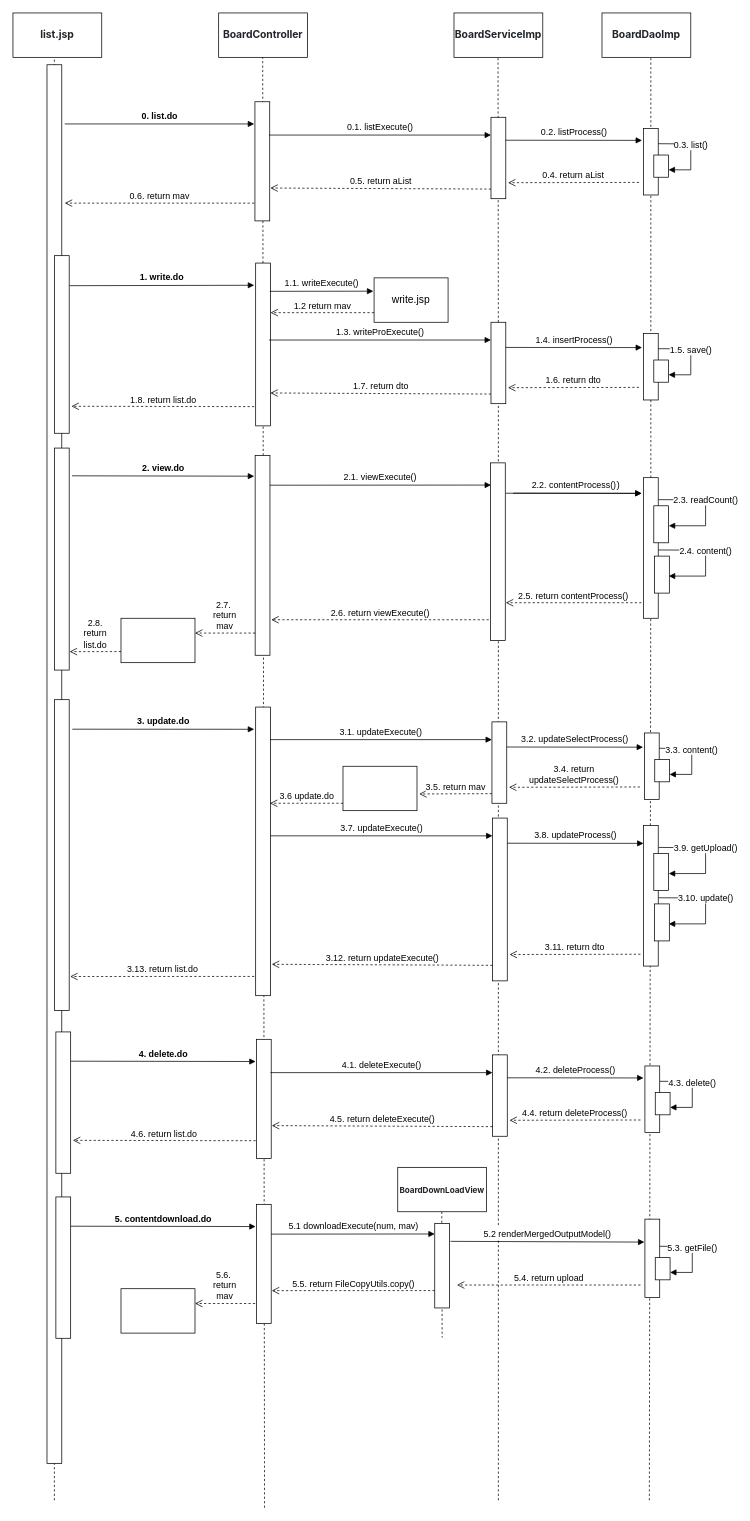
Some shapes in this 750 by 1521 pixel diagram are drawn without their labels. Each missing label, with the centre of its shape:
download: [157,1310]
update.jsp: [379,788]
view.jsp: [157,640]
